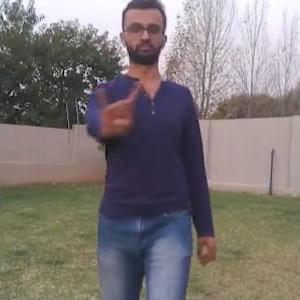takeoff-hand: (91, 72, 143, 132)
